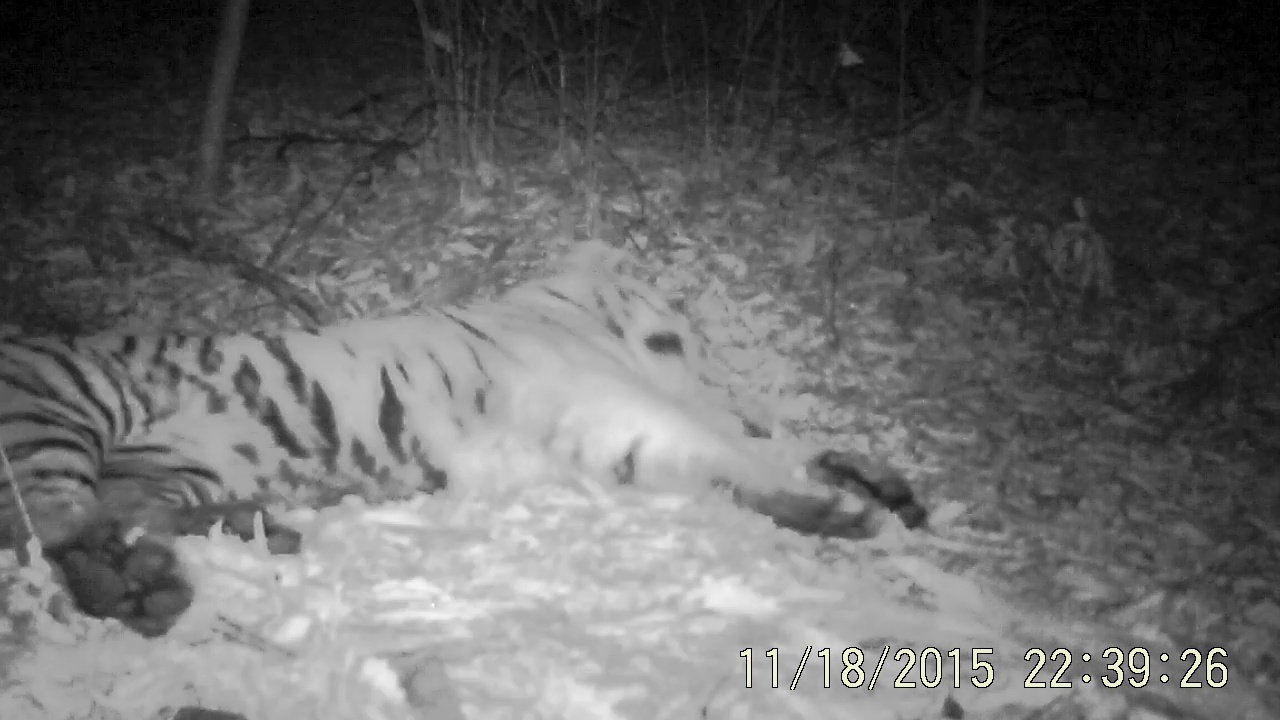Tiger: (4, 83, 1017, 646)
